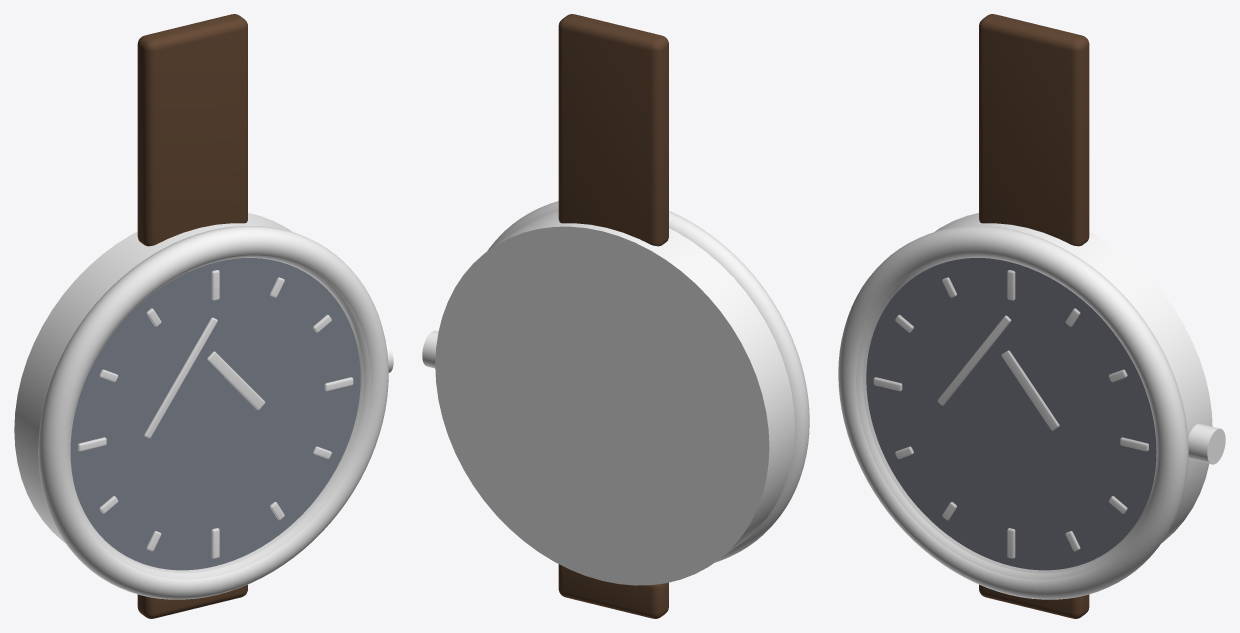
Rendered from watch.glb.
3 views of the same model, side by side, from view 1: azimuth 30°, elevation 25°; view 2: azimuth 150°, elevation 25°; view 3: azimuth 330°, elevation 25° (orthographic).
Parts seen in each view (by area): view 1: Crystal, Dial, Bezel, StrapTop, Case, StrapBottom, MinuteHand, HourHand; view 2: Case, StrapTop, Bezel, StrapBottom; view 3: Crystal, Dial, Bezel, StrapTop, Case, StrapBottom, Crown, MinuteHand, HourHand.
Part boxes in pixels (bbox=[...]): Crystal: bbox=[69, 255, 370, 579]; Dial: bbox=[70, 258, 360, 570]; Bezel: bbox=[38, 226, 388, 599]; StrapTop: bbox=[137, 14, 247, 246]; Case: bbox=[14, 213, 292, 542]; StrapBottom: bbox=[137, 584, 247, 618]; MinuteHand: bbox=[144, 317, 217, 438]; HourHand: bbox=[207, 351, 264, 409]; Case: bbox=[435, 211, 794, 585]; StrapTop: bbox=[558, 14, 668, 246]; Bezel: bbox=[487, 201, 809, 562]; StrapBottom: bbox=[558, 564, 668, 618]; Crystal: bbox=[856, 255, 1157, 579]; Dial: bbox=[866, 258, 1156, 570]; Bezel: bbox=[838, 226, 1188, 599]; StrapTop: bbox=[979, 14, 1089, 246]; Case: bbox=[934, 213, 1212, 543]; StrapBottom: bbox=[979, 584, 1089, 618]; Crown: bbox=[1188, 423, 1225, 464]; MinuteHand: bbox=[937, 315, 1011, 405]; HourHand: bbox=[1001, 350, 1059, 430].
Bounding box in the file's own units: 0.905 × 1.39 × 0.175.
